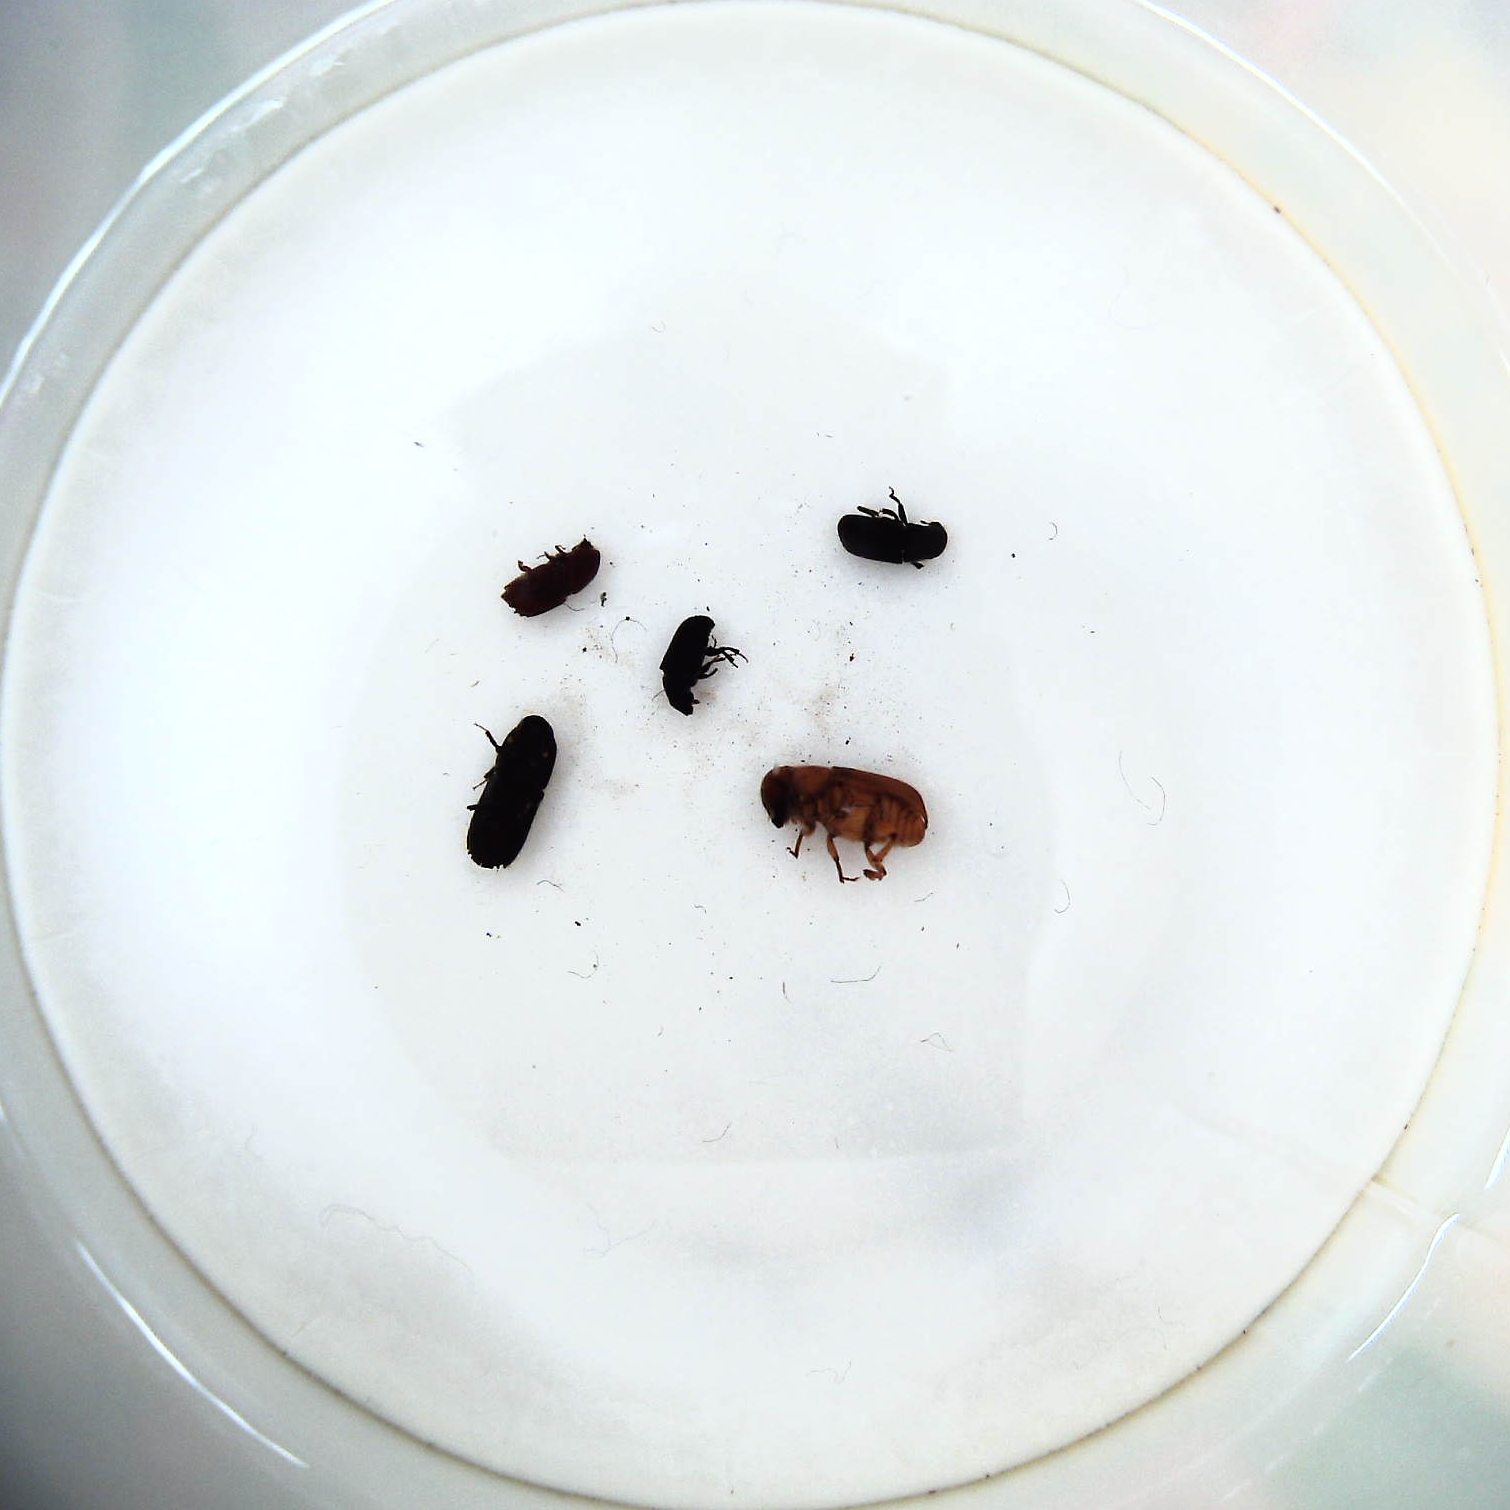Boerner: (460, 714, 566, 873)
Leconte: (756, 761, 931, 885)
armandi: (834, 490, 949, 577)
coleoptera: (660, 613, 745, 716)
linnaeus: (501, 530, 607, 621)
